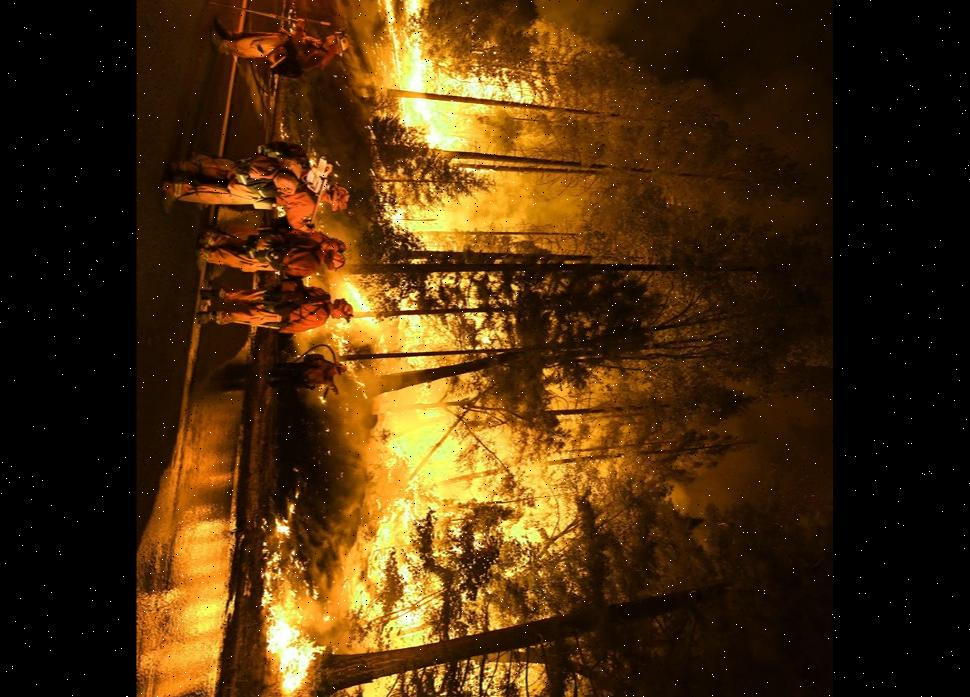fire: (251, 397, 570, 697), (359, 0, 541, 366)
